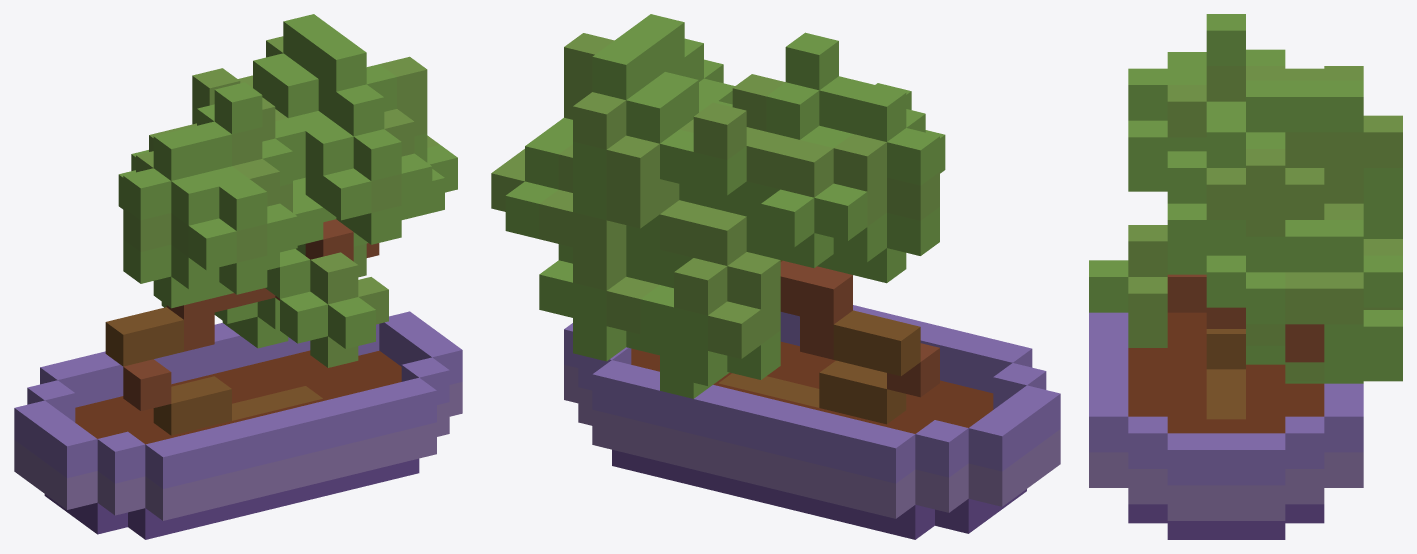
The model's file is pot2.glb.
3 renders of one model, left to right at view 1: azimuth 30°, elevation 25°; view 2: azimuth 150°, elevation 25°; view 3: azimuth 270°, elevation 25°, orthographic. The views are drawn at different scales.
Parts seen in each view (by area): view 1: geometry_0; view 2: geometry_0; view 3: geometry_0.
Part boxes in pixels (<box>): geometry_0: <box>14,14,462,539</box>; geometry_0: <box>491,14,1060,539</box>; geometry_0: <box>1089,14,1402,539</box>.
Bounding box in the file's own units: 14 × 12 × 8.
Materials: 1 (1 with a texture image).
